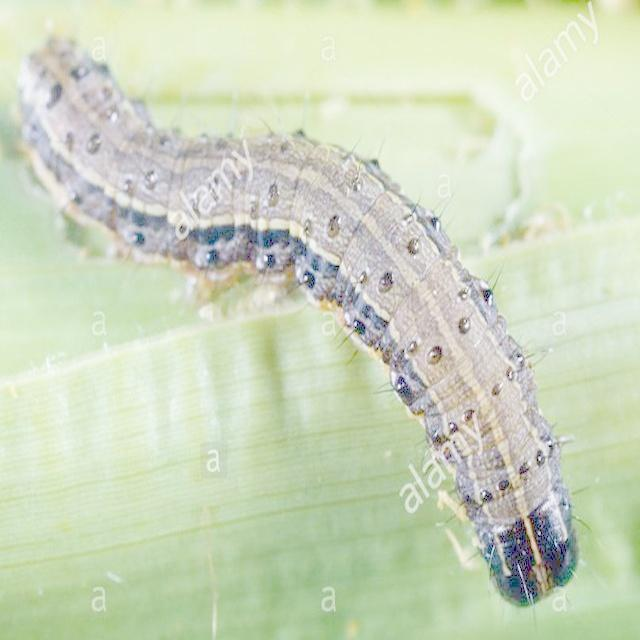Plaga: (19, 36, 595, 612)
